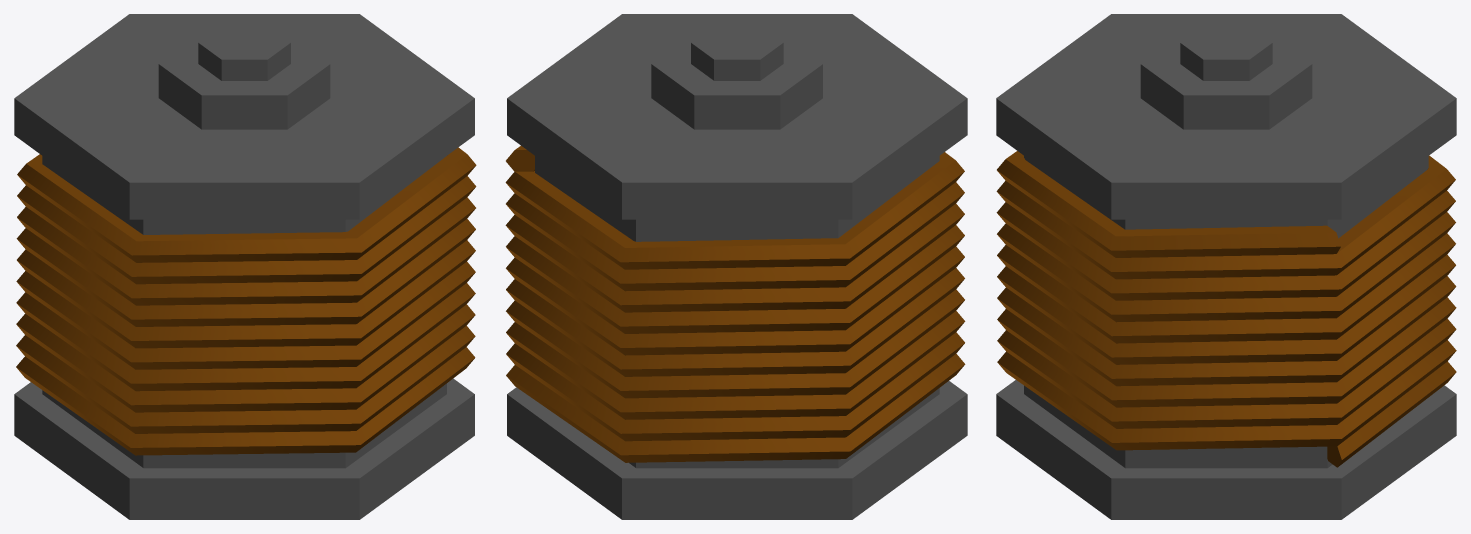
The model's file is Copper Coil.fbx.
The picture shows the model from 3 angles, left to right: view 1: azimuth 30°, elevation 25°; view 2: azimuth 150°, elevation 25°; view 3: azimuth 270°, elevation 25°; orthographic projection.
Parts seen in each view (by area): view 1: wire:Wire, wire:Wire_Holder2, wire:Wire_Holder3, wire:Wire_Holder6, wire:Wire_Holder, wire:Wire_Holder8; view 2: wire:Wire, wire:Wire_Holder2, wire:Wire_Holder3, wire:Wire_Holder6, wire:Wire_Holder, wire:Wire_Holder8; view 3: wire:Wire, wire:Wire_Holder2, wire:Wire_Holder3, wire:Wire_Holder6, wire:Wire_Holder, wire:Wire_Holder8.
Boxes of the visible parts, x1=… form: wire:Wire: x1=16, y1=147, x2=476, y2=455; wire:Wire_Holder2: x1=14, y1=14, x2=474, y2=219; wire:Wire_Holder3: x1=14, y1=378, x2=474, y2=519; wire:Wire_Holder6: x1=158, y1=32, x2=330, y2=129; wire:Wire_Holder: x1=42, y1=156, x2=446, y2=468; wire:Wire_Holder8: x1=198, y1=25, x2=290, y2=80; wire:Wire: x1=505, y1=146, x2=965, y2=462; wire:Wire_Holder2: x1=507, y1=14, x2=967, y2=219; wire:Wire_Holder3: x1=507, y1=381, x2=967, y2=519; wire:Wire_Holder6: x1=651, y1=32, x2=822, y2=129; wire:Wire_Holder: x1=535, y1=156, x2=939, y2=468; wire:Wire_Holder8: x1=691, y1=25, x2=783, y2=80; wire:Wire: x1=996, y1=151, x2=1456, y2=467; wire:Wire_Holder2: x1=996, y1=14, x2=1456, y2=219; wire:Wire_Holder3: x1=996, y1=380, x2=1456, y2=519; wire:Wire_Holder6: x1=1140, y1=32, x2=1312, y2=129; wire:Wire_Holder: x1=1024, y1=156, x2=1428, y2=468; wire:Wire_Holder8: x1=1180, y1=25, x2=1272, y2=80.
Bounding box in the file's own units: 0.5487 × 0.5936 × 0.6304.
